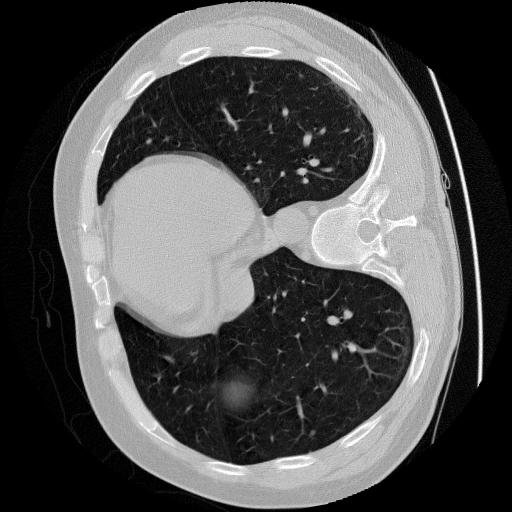nodule: (306, 427, 319, 440)
